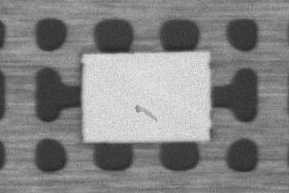DIE_INK: (134, 104, 158, 122)
